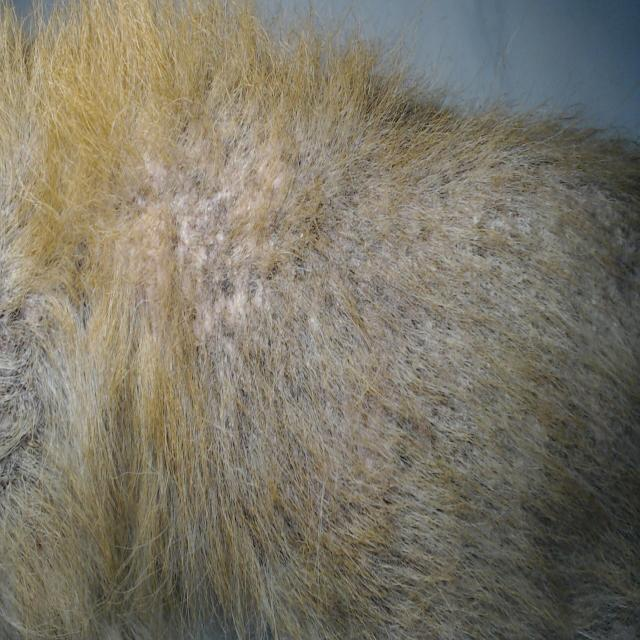demodicosis: (400, 140, 605, 375), (158, 167, 285, 345), (3, 308, 62, 463)
